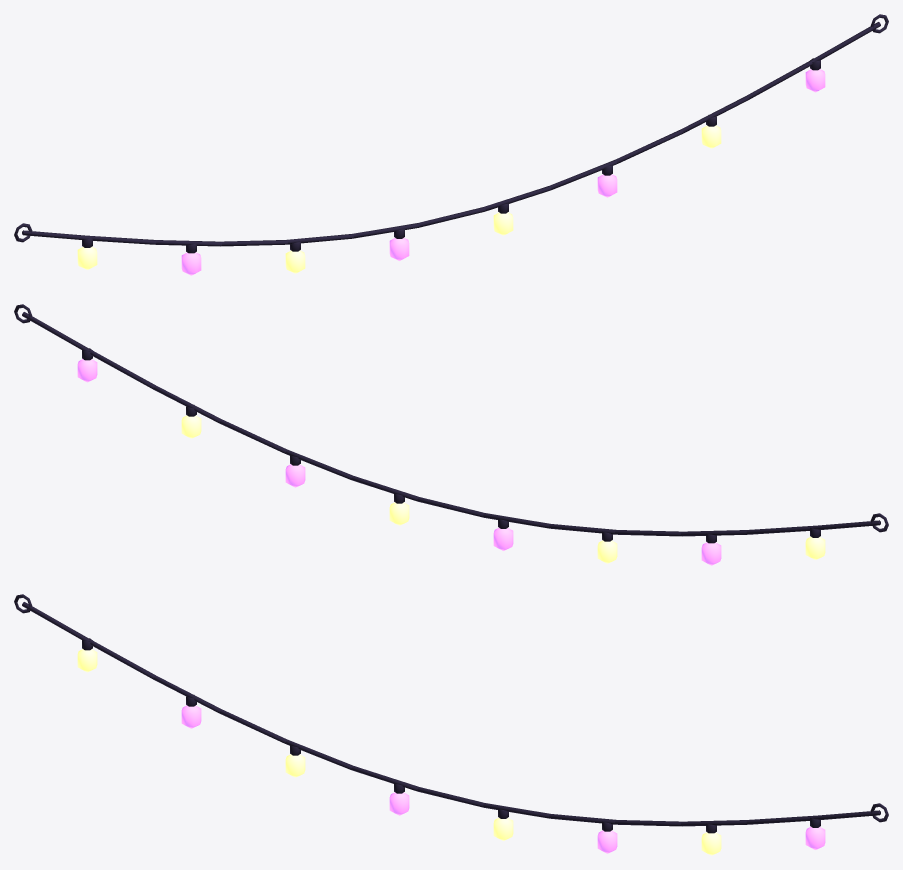
The model's file is string_lights.glb.
3 renders of one model, top to bottom at view 1: azimuth 30°, elevation 25°; view 2: azimuth 150°, elevation 25°; view 3: azimuth 330°, elevation 25°, orthographic.
Size of the model in its own units: 4.09 by 0.5794 by 0.0823.
